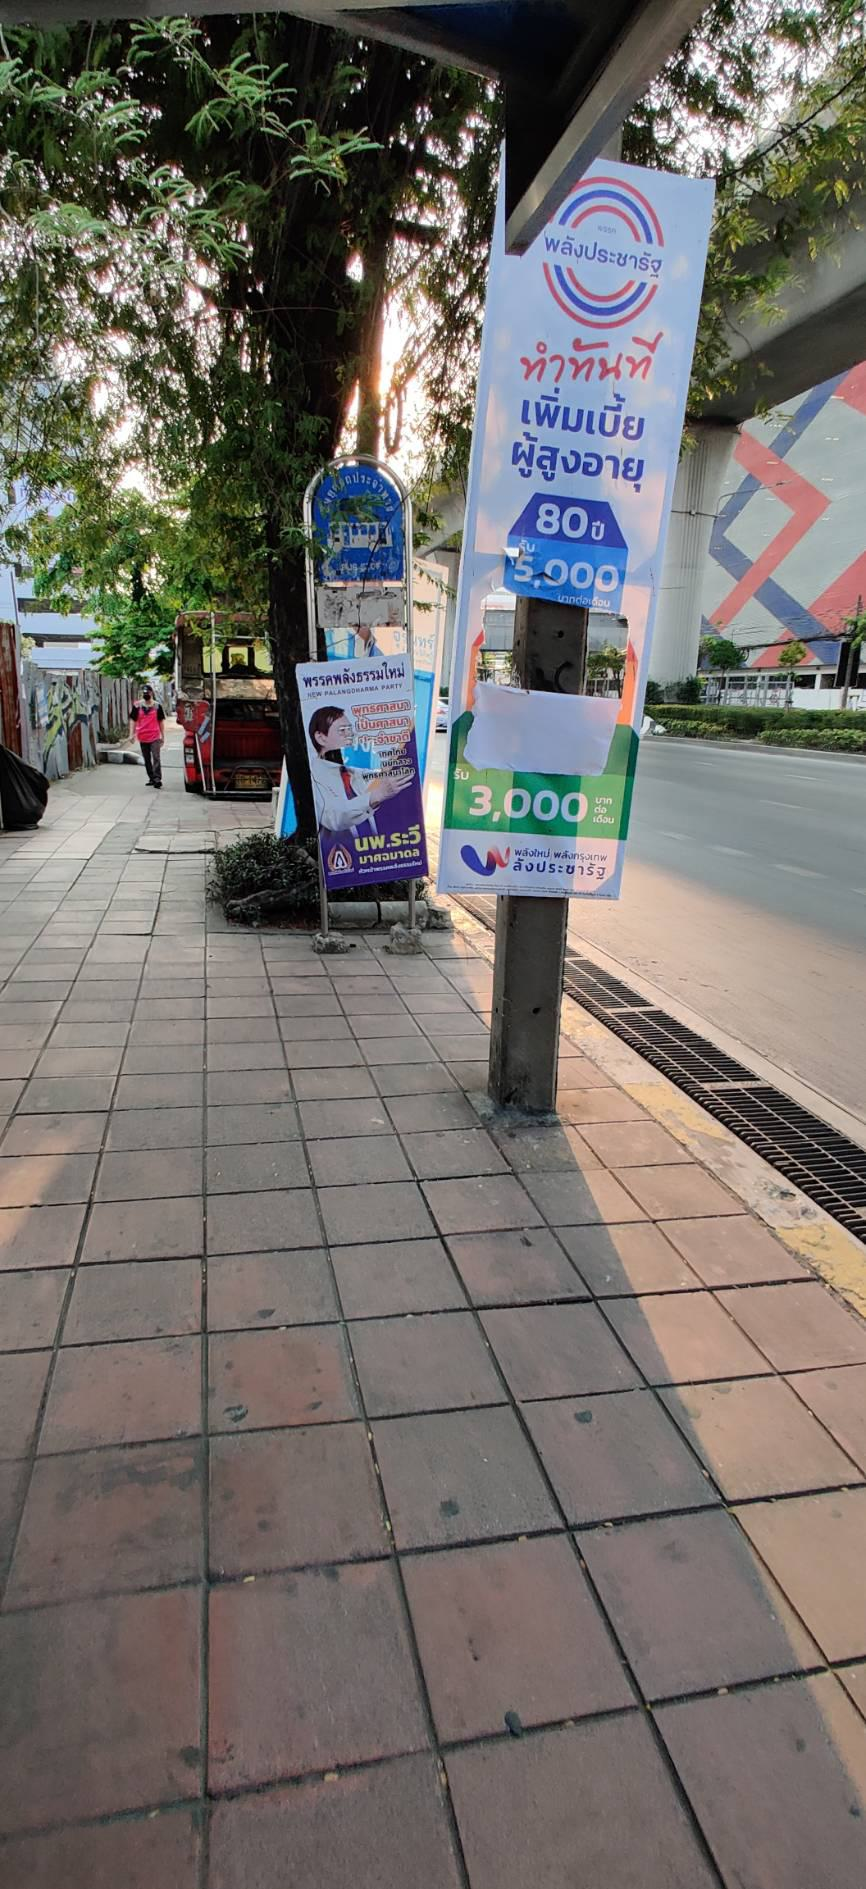Banner: (466, 148, 717, 919)
